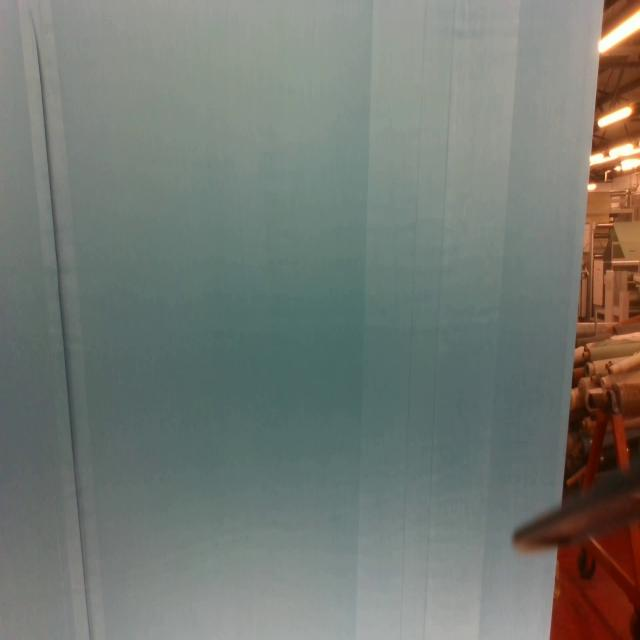crease: (24, 4, 96, 639), (420, 1, 458, 640), (397, 0, 431, 637)
